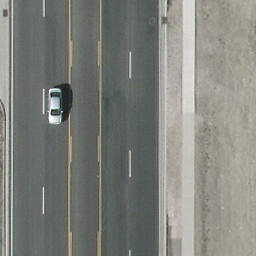car: (46, 88, 64, 125)
